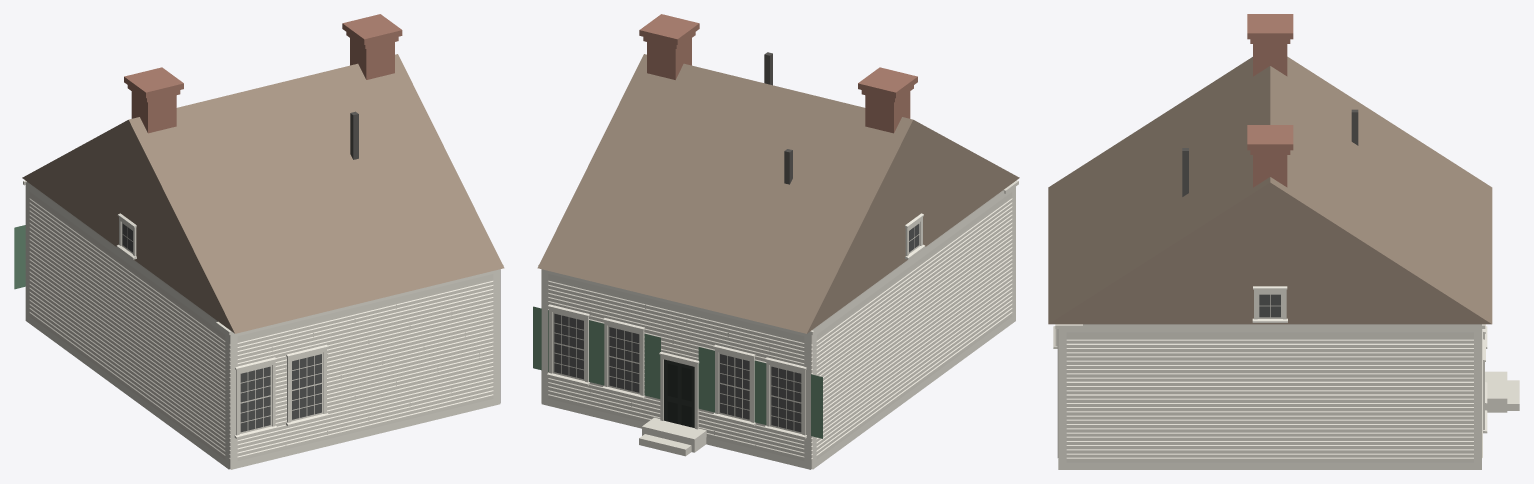
File: recon_1835_west_006__inferred_1835.glb
3 renders of one model, left to right at view 1: azimuth 30°, elevation 25°; view 2: azimuth 150°, elevation 25°; view 3: azimuth 270°, elevation 25°, orthographic. The views are drawn at different scales.
Parts seen in each view (by area): view 1: recon_1835_west_006__inferred_1835; view 2: recon_1835_west_006__inferred_1835; view 3: recon_1835_west_006__inferred_1835.
Part boxes in pixels (x1,y1,x2,y2): recon_1835_west_006__inferred_1835: (14, 14, 504, 469); recon_1835_west_006__inferred_1835: (533, 14, 1019, 469); recon_1835_west_006__inferred_1835: (1048, 14, 1519, 469).
Bounding box in the file's own units: 8.53 × 8.68 × 11.53.
